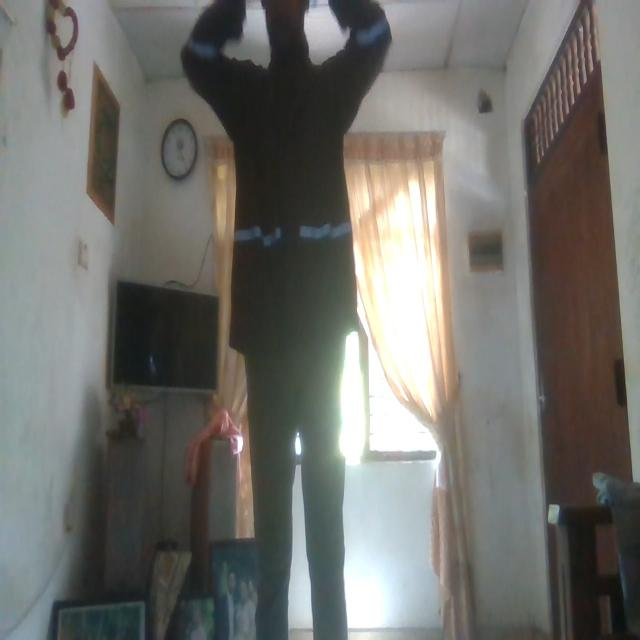Jacket_Wearer: (208, 0, 366, 329)
Person: (186, 0, 384, 609)
